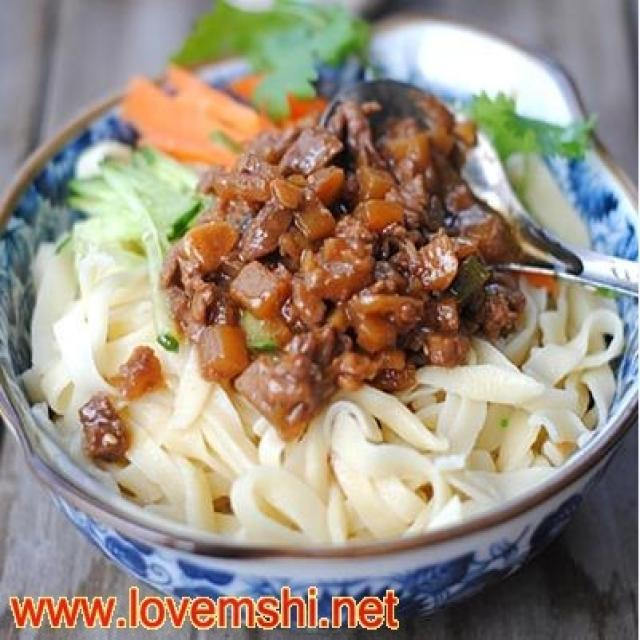面条主食: (12, 26, 626, 538)
